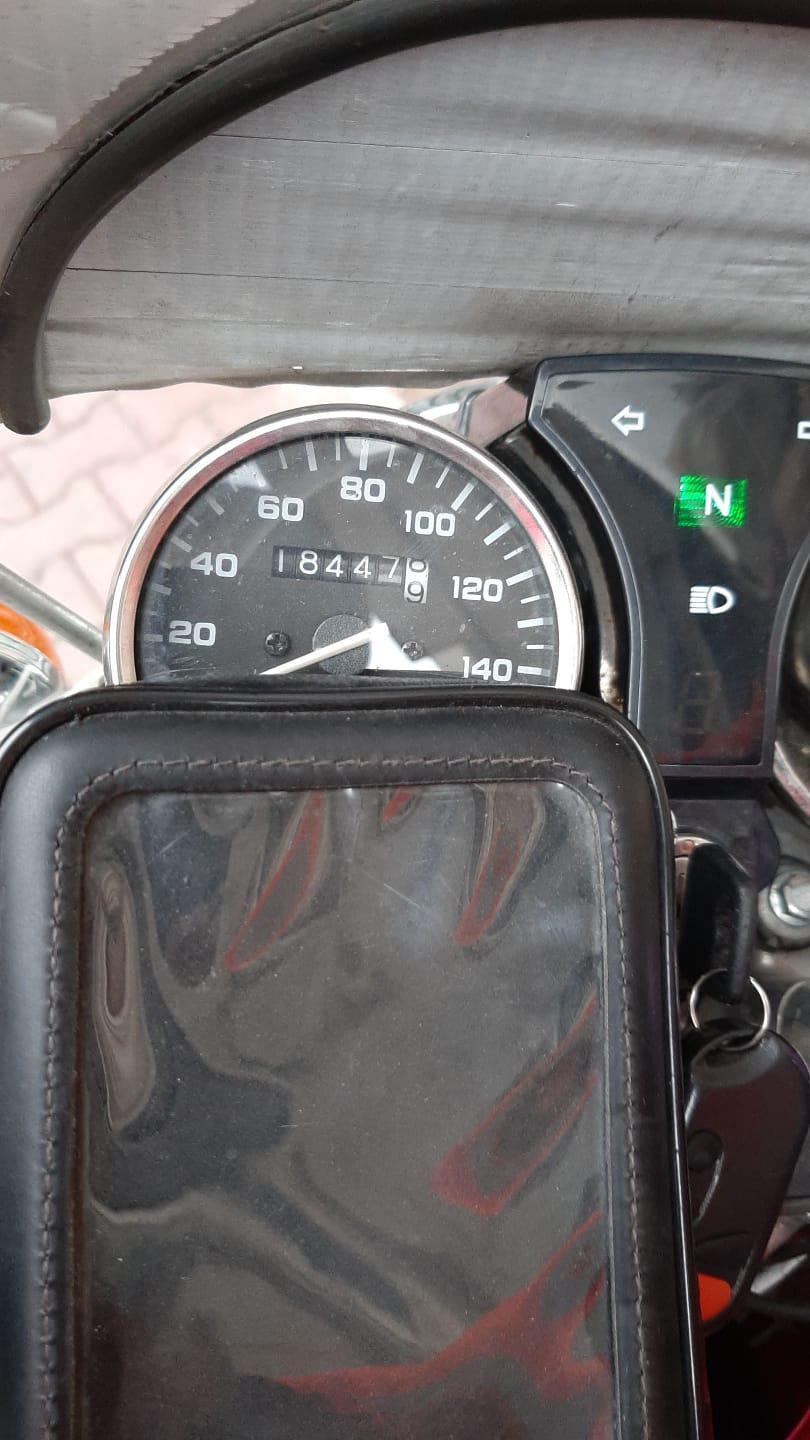1: (276, 546, 288, 576)
4: (352, 554, 372, 580), (324, 552, 344, 578)
7: (381, 553, 400, 579)
8: (298, 548, 320, 574), (408, 549, 428, 573)
9: (405, 579, 425, 603)
odometer: (267, 542, 433, 605)
